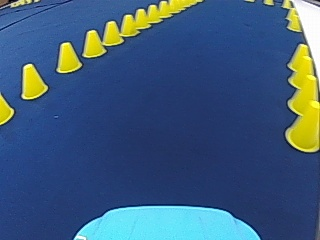cone: (284, 44, 318, 143), (284, 94, 320, 151), (286, 66, 319, 115), (287, 46, 314, 91), (20, 62, 48, 98), (54, 40, 82, 73), (286, 43, 311, 74), (81, 29, 106, 57), (101, 20, 121, 45), (288, 69, 311, 88), (0, 93, 14, 123), (120, 14, 136, 36), (286, 8, 301, 30), (133, 8, 148, 28), (145, 4, 160, 23), (157, 0, 169, 17)
